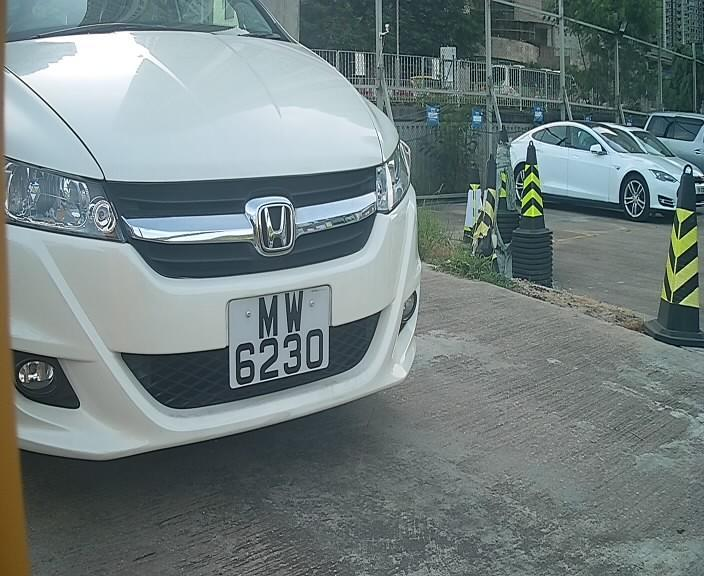privatecar: (4, 6, 444, 474)
